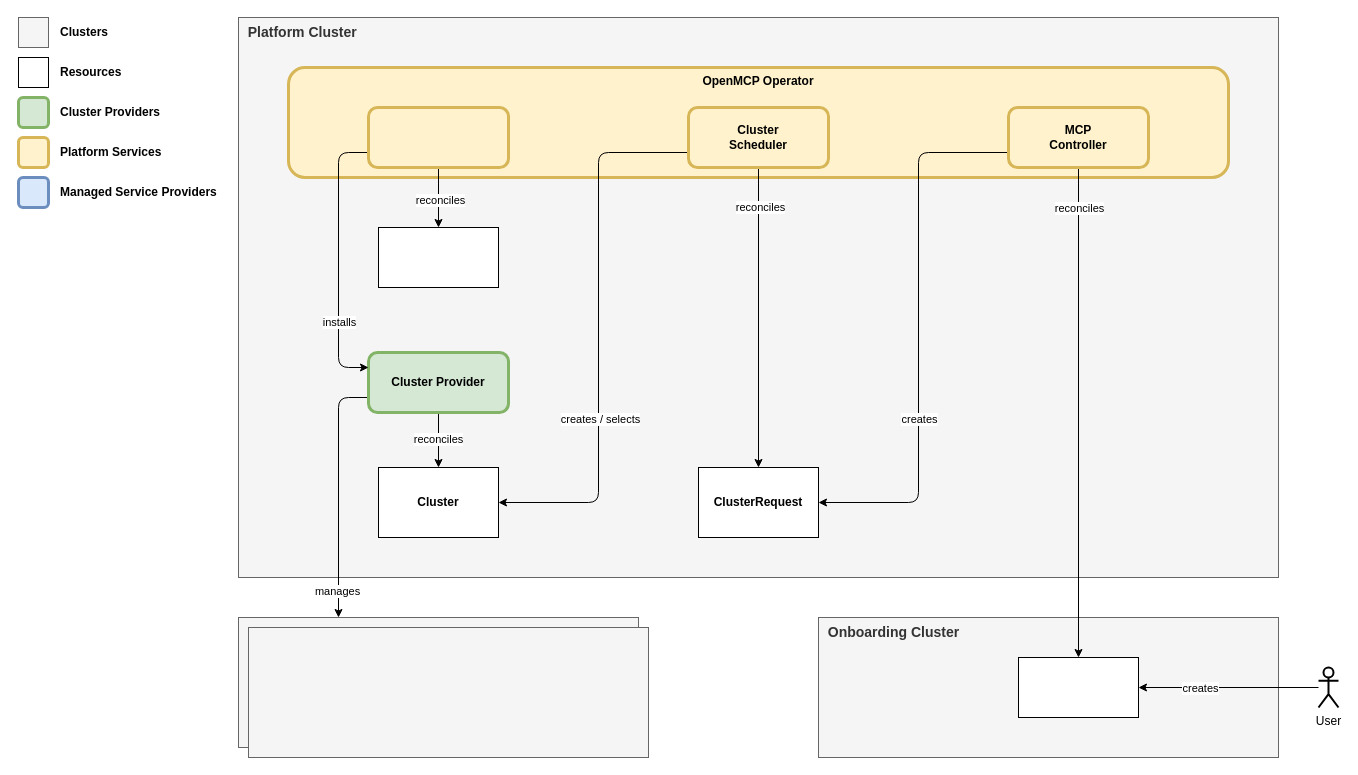
Image size: 1358x775. Some labels were removed from this diagram. Each missing label, with the centre of its shape:
ClusterProvider: [438,257]
ClusterProvider Controller: [438,137]
MCP: [1078,687]
Workload Clusters, MCP Clusters, Platform Cluster, Onboarding Cluster: [448,692]
